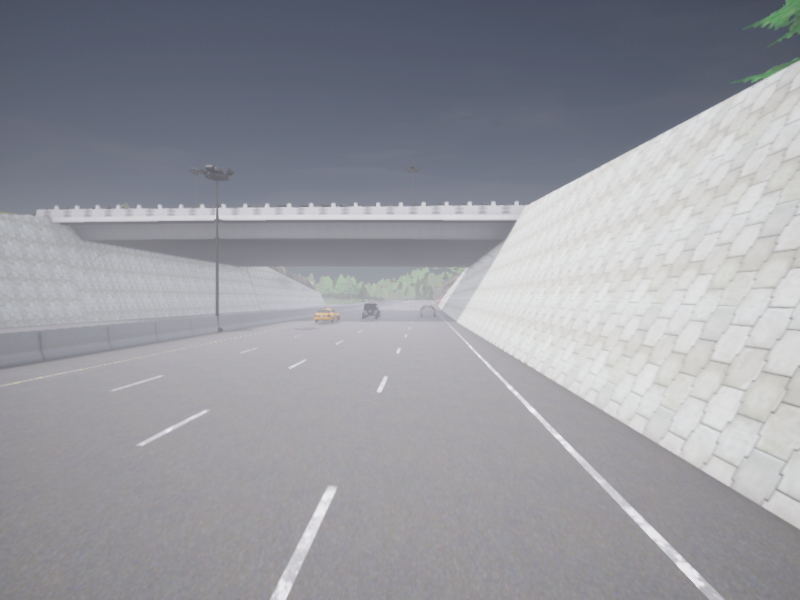vehicle: (313, 307, 339, 322), (362, 303, 380, 318), (420, 305, 435, 315), (410, 302, 416, 306)
